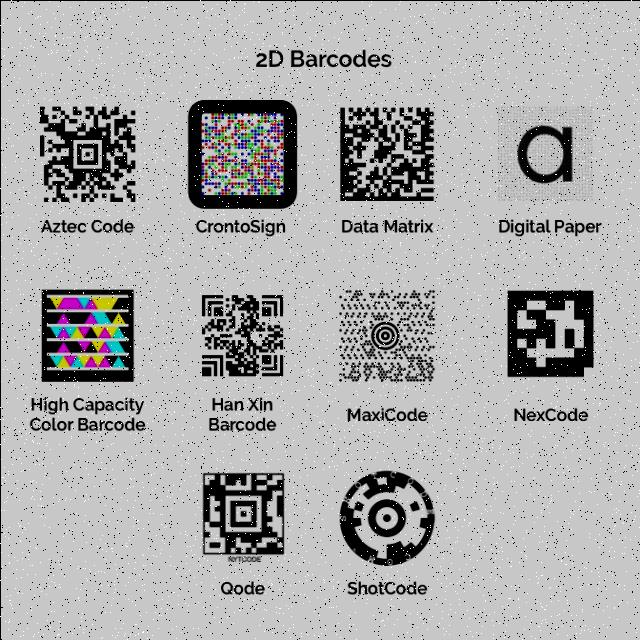datamatrix: (335, 102, 438, 205)
